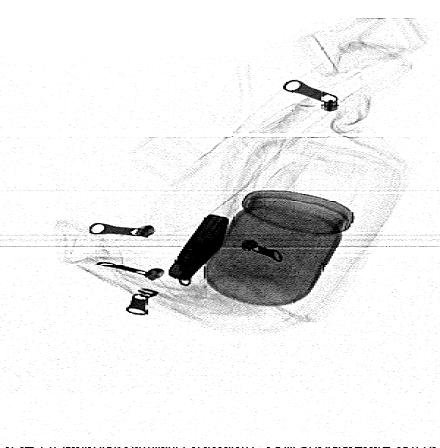Lighter: (167, 213, 229, 281)
